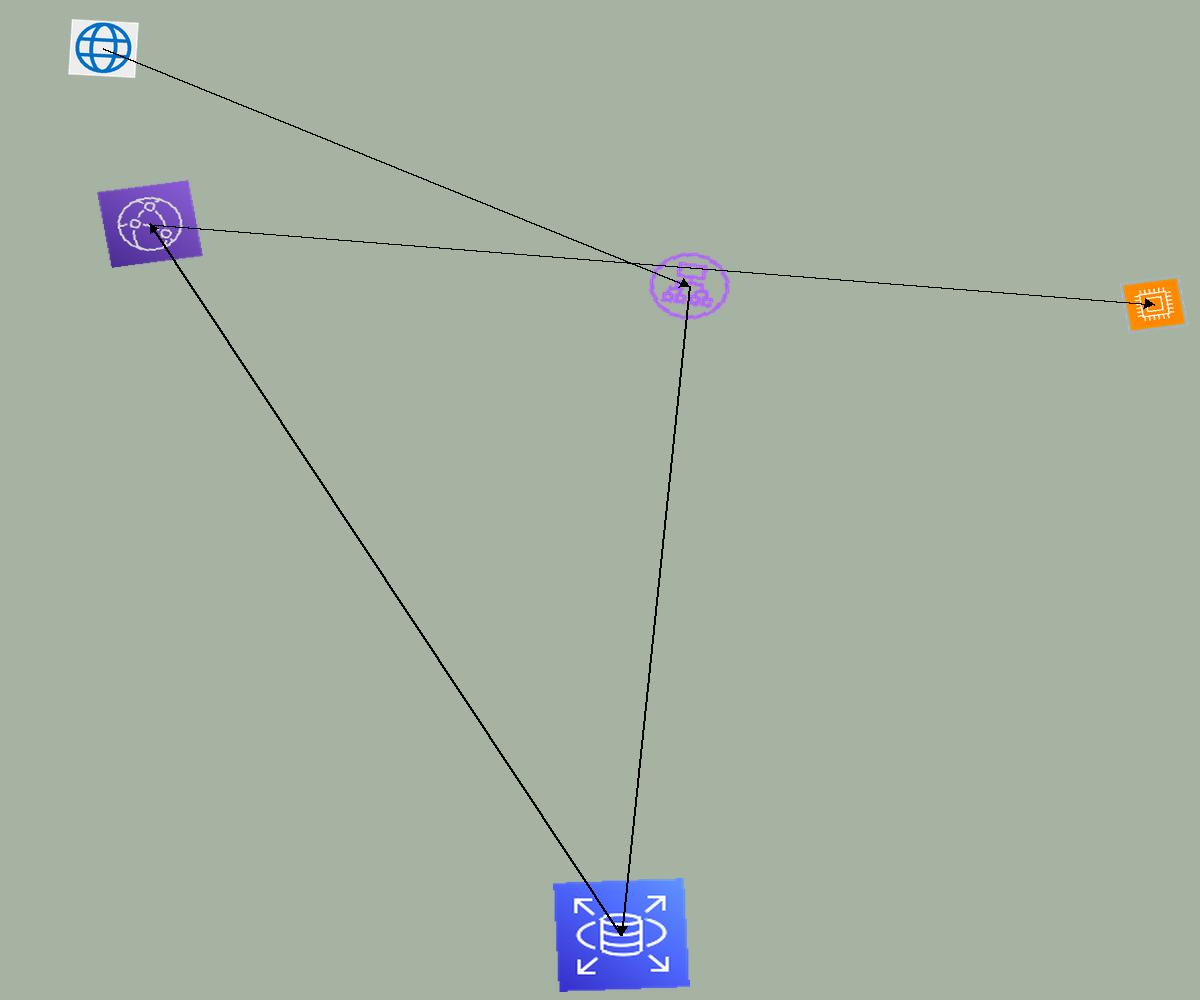AWS-Category_Compute: (1119, 275, 1189, 334)
AWS-CloudFront: (97, 180, 203, 268)
AWS-RDS: (553, 878, 690, 992)
AWS-Res_Elastic-Load-Balancing_Application-Load-Balancer: (639, 244, 740, 328)
Azure_http: (68, 19, 139, 78)
